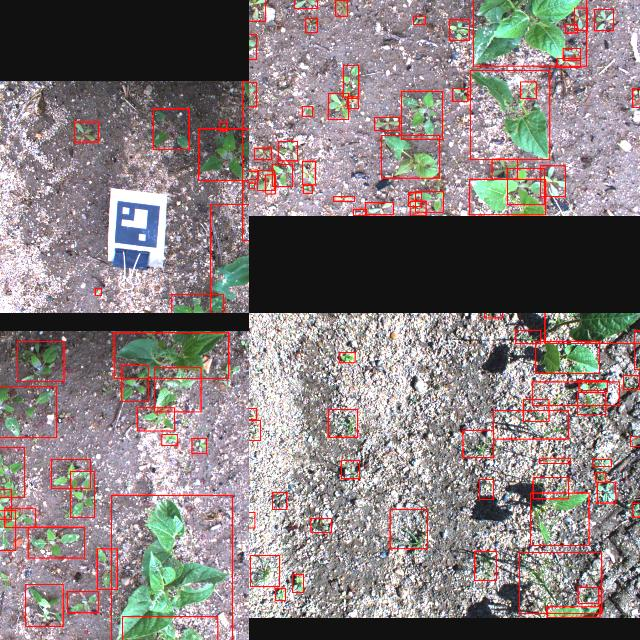crop: (110, 495, 231, 640), (472, 0, 585, 66), (469, 70, 549, 160), (114, 332, 228, 378), (530, 492, 588, 546), (544, 313, 640, 342), (469, 179, 545, 215), (381, 136, 439, 178), (122, 616, 217, 640), (154, 366, 200, 412), (535, 341, 599, 373), (546, 606, 600, 618)
weed: (519, 552, 601, 614), (0, 386, 55, 438), (198, 128, 249, 180), (492, 410, 568, 440), (532, 381, 618, 405), (401, 91, 442, 139), (16, 341, 64, 381), (27, 526, 83, 558), (389, 509, 427, 549), (26, 584, 62, 626), (152, 109, 188, 150), (506, 169, 544, 205), (0, 447, 24, 497), (50, 459, 90, 488), (70, 471, 94, 517), (120, 364, 148, 402), (171, 294, 223, 313), (249, 556, 279, 586), (96, 548, 116, 590), (462, 430, 492, 458), (327, 409, 357, 437), (136, 408, 174, 430), (532, 477, 568, 499), (540, 166, 564, 197), (474, 551, 496, 581), (4, 508, 36, 528), (577, 392, 605, 414), (67, 592, 97, 612), (522, 399, 548, 421), (414, 192, 442, 212), (0, 511, 14, 551), (491, 159, 517, 179), (328, 94, 348, 120), (342, 65, 358, 97), (74, 121, 98, 141), (272, 164, 292, 186), (593, 10, 613, 30), (449, 20, 469, 40), (277, 141, 297, 161), (596, 482, 616, 502), (514, 329, 540, 343), (256, 171, 274, 191), (249, 0, 265, 21), (364, 203, 392, 215), (0, 489, 11, 519), (341, 460, 359, 478), (578, 588, 598, 604), (578, 380, 608, 390), (374, 118, 398, 130), (302, 161, 314, 185), (479, 479, 493, 499), (310, 518, 330, 532), (574, 8, 586, 30), (520, 82, 536, 98), (409, 200, 425, 216), (190, 438, 206, 454), (272, 492, 286, 510), (556, 58, 580, 68), (634, 330, 640, 369), (451, 88, 467, 102), (623, 375, 639, 389), (562, 48, 580, 60), (253, 148, 271, 160), (249, 420, 259, 440), (293, 0, 317, 8), (335, 0, 347, 16), (538, 458, 570, 464), (265, 176, 275, 194), (292, 575, 302, 593), (408, 193, 420, 207), (161, 434, 177, 444), (632, 88, 640, 107), (249, 33, 255, 58), (249, 81, 255, 106), (306, 18, 316, 32), (340, 352, 354, 362), (332, 196, 353, 202), (592, 459, 610, 466), (275, 588, 285, 600), (632, 503, 640, 517), (347, 98, 358, 108), (301, 106, 311, 116), (595, 472, 605, 482), (630, 436, 640, 446), (412, 16, 424, 24), (566, 23, 576, 32), (352, 210, 366, 216), (302, 185, 312, 193), (249, 512, 254, 528), (249, 170, 257, 179), (249, 408, 255, 419), (219, 122, 227, 130), (94, 288, 100, 296), (249, 183, 253, 189)
